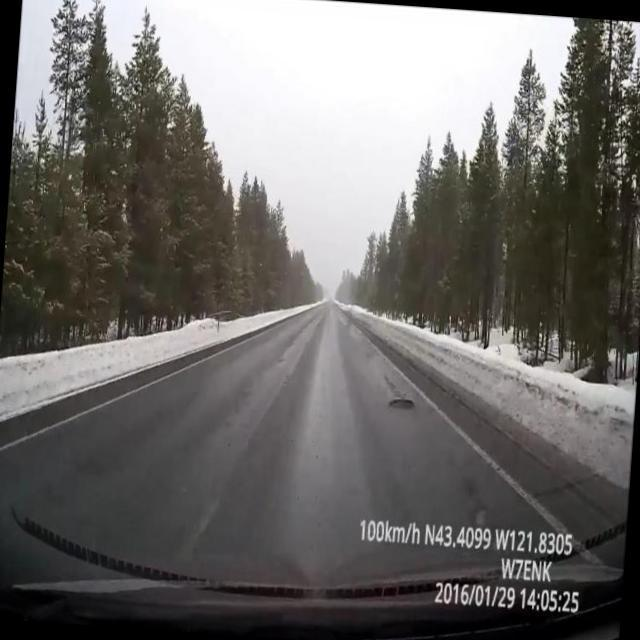Pothole: (387, 397, 416, 411)
